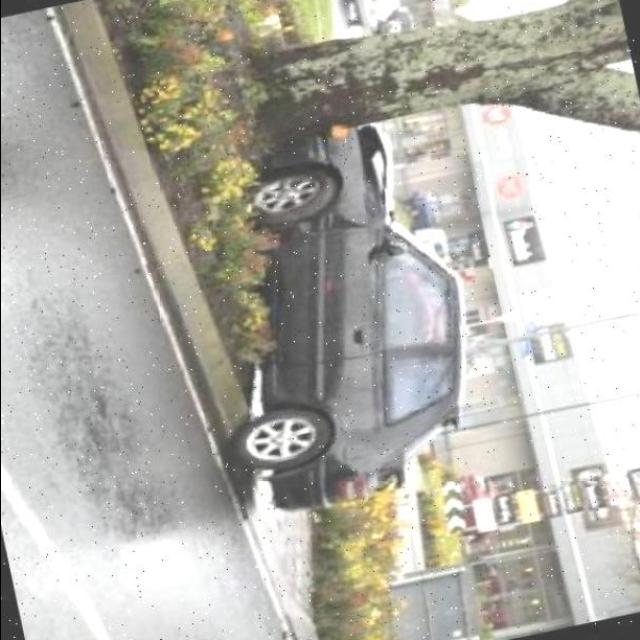accident: (162, 77, 554, 545)
